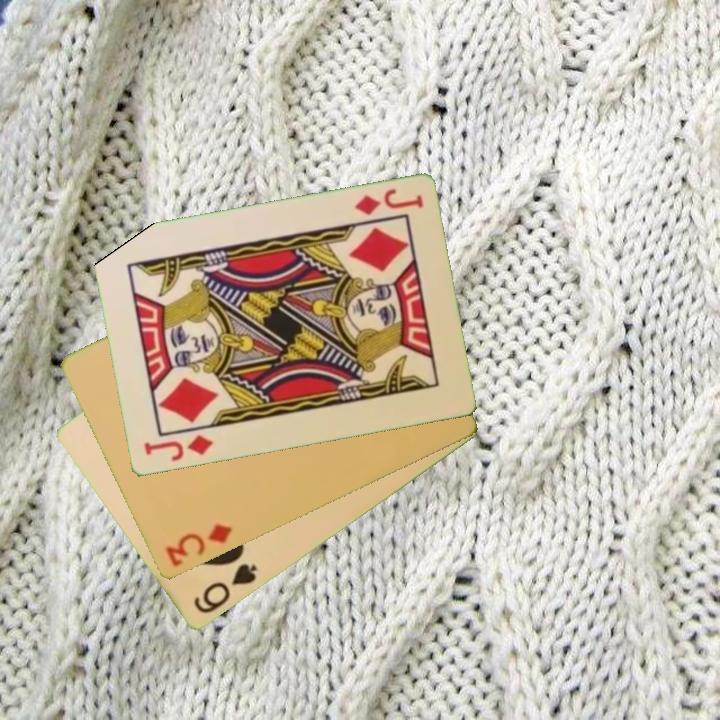3d: (162, 521, 235, 570)
6s: (190, 560, 260, 618)
Jd: (140, 432, 216, 465), (350, 186, 426, 219)
